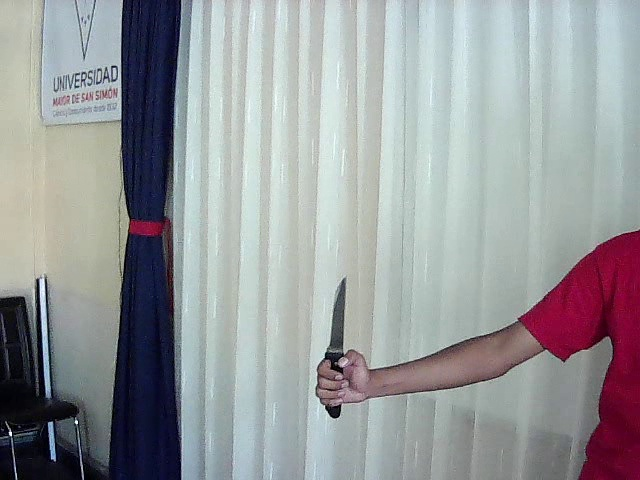cuchillo: (318, 266, 362, 392)
